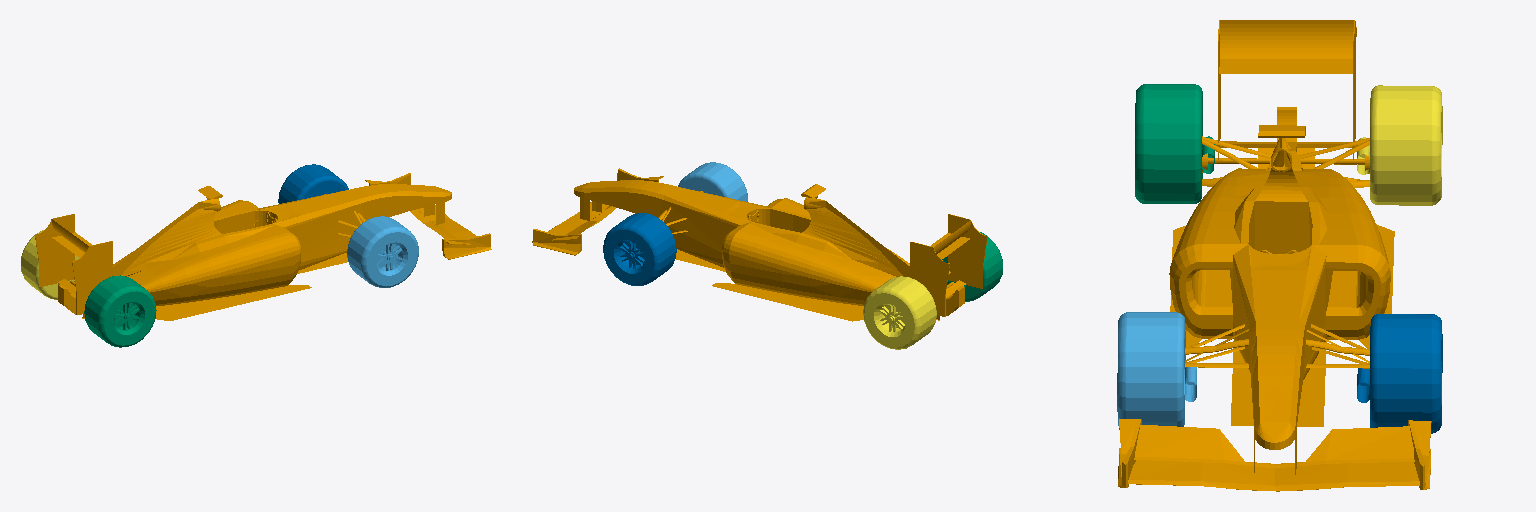
URDF robot description (predicted_car_example_2):
<?xml version="1.0"?>
<robot name="predicted_car_example_2">
  <link name="base_link">
    <visual>
      <geometry>
        <mesh filename="meshes/part_02.stl"/>
      </geometry>
    </visual>
    <visual>
      <geometry>
        <mesh filename="meshes/part_05.stl"/>
      </geometry>
    </visual>
    <visual>
      <geometry>
        <mesh filename="meshes/part_06.stl"/>
      </geometry>
    </visual>
    <visual>
      <geometry>
        <mesh filename="meshes/part_07.stl"/>
      </geometry>
    </visual>
    <visual>
      <geometry>
        <mesh filename="meshes/part_08.stl"/>
      </geometry>
    </visual>
    <visual>
      <geometry>
        <mesh filename="meshes/part_09.stl"/>
      </geometry>
    </visual>
  </link>
  <link name="link_user_sketch_1779221960835_J0">
    <visual>
      <origin xyz="-0.2391 0.1482 0.0461" rpy="0 0 0"/>
      <geometry>
        <mesh filename="meshes/part_01.stl"/>
      </geometry>
    </visual>
  </link>
  <joint name="joint_user_sketch_1779221960835_J0" type="continuous">
    <parent link="base_link"/>
    <child link="link_user_sketch_1779221960835_J0"/>
    <origin xyz="0.2391 -0.1482 -0.0461" rpy="0 0 0"/>
    <axis xyz="0.0000 -1.0000 0.0000"/>
  </joint>
  <link name="link_user_sketch_1779221960835_J1">
    <visual>
      <origin xyz="0.4133 0.1270 0.0461" rpy="0 0 0"/>
      <geometry>
        <mesh filename="meshes/part_04.stl"/>
      </geometry>
    </visual>
  </link>
  <joint name="joint_user_sketch_1779221960835_J1" type="continuous">
    <parent link="base_link"/>
    <child link="link_user_sketch_1779221960835_J1"/>
    <origin xyz="-0.4133 -0.1270 -0.0461" rpy="0 0 0"/>
    <axis xyz="0.0000 -1.0000 0.0000"/>
  </joint>
  <link name="link_user_sketch_1779221960835_J2">
    <visual>
      <origin xyz="0.4092 -0.1448 0.0461" rpy="0 0 0"/>
      <geometry>
        <mesh filename="meshes/part_03.stl"/>
      </geometry>
    </visual>
  </link>
  <joint name="joint_user_sketch_1779221960835_J2" type="continuous">
    <parent link="base_link"/>
    <child link="link_user_sketch_1779221960835_J2"/>
    <origin xyz="-0.4092 0.1448 -0.0461" rpy="0 0 0"/>
    <axis xyz="0.0000 1.0000 0.0000"/>
  </joint>
  <link name="link_user_sketch_1779221960835_J3">
    <visual>
      <origin xyz="-0.2431 -0.1448 0.0461" rpy="0 0 0"/>
      <geometry>
        <mesh filename="meshes/part_00.stl"/>
      </geometry>
    </visual>
  </link>
  <joint name="joint_user_sketch_1779221960835_J3" type="continuous">
    <parent link="base_link"/>
    <child link="link_user_sketch_1779221960835_J3"/>
    <origin xyz="0.2431 0.1448 -0.0461" rpy="0 0 0"/>
    <axis xyz="0.0000 1.0000 0.0000"/>
  </joint>
</robot>

--- What the picture shows (computed from the rendered views, not written in the file) ---
Views: 3 orthographic renders of the robot side by side, from view 1: azimuth 30°, elevation 25°; view 2: azimuth 150°, elevation 25°; view 3: azimuth 270°, elevation 25°.
Robot: predicted_car_example_2 — 5 links, 4 joints (4 continuous); root link base_link; default pose: every joint at zero.
Links seen in each view (by area): view 1: base_link, link_user_sketch_1779221960835_J0, link_user_sketch_1779221960835_J1, link_user_sketch_1779221960835_J3, link_user_sketch_1779221960835_J2; view 2: base_link, link_user_sketch_1779221960835_J2, link_user_sketch_1779221960835_J3, link_user_sketch_1779221960835_J0, link_user_sketch_1779221960835_J1; view 3: base_link, link_user_sketch_1779221960835_J2, link_user_sketch_1779221960835_J3, link_user_sketch_1779221960835_J1, link_user_sketch_1779221960835_J0.
Link boxes in pixels (box(x1,y1,x2,y2)): base_link: box(35, 173, 491, 320); link_user_sketch_1779221960835_J0: box(347, 216, 418, 287); link_user_sketch_1779221960835_J1: box(84, 275, 156, 347); link_user_sketch_1779221960835_J3: box(278, 164, 348, 203); link_user_sketch_1779221960835_J2: box(21, 230, 79, 299); base_link: box(532, 168, 987, 321); link_user_sketch_1779221960835_J2: box(863, 276, 936, 349); link_user_sketch_1779221960835_J3: box(603, 213, 676, 285); link_user_sketch_1779221960835_J0: box(678, 162, 747, 201); link_user_sketch_1779221960835_J1: box(942, 232, 1002, 301); base_link: box(1118, 20, 1431, 491); link_user_sketch_1779221960835_J2: box(1357, 85, 1442, 205); link_user_sketch_1779221960835_J3: box(1357, 314, 1442, 433); link_user_sketch_1779221960835_J1: box(1135, 84, 1214, 203); link_user_sketch_1779221960835_J0: box(1117, 312, 1196, 426).
Size in the robot's own frame: 1 by 0.393 by 0.2377 metres.
10 mesh visuals loaded from 10 distinct referenced files (10 binary STL).
